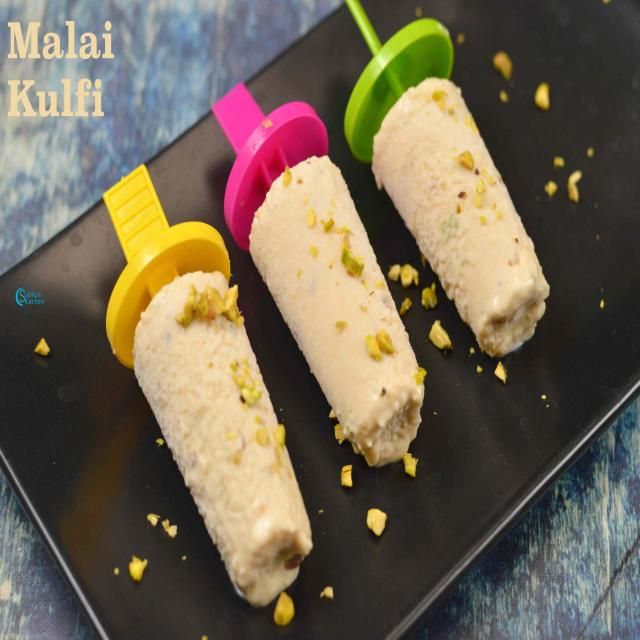kulfi: (76, 270, 314, 624), (235, 164, 430, 481), (366, 81, 557, 378)
